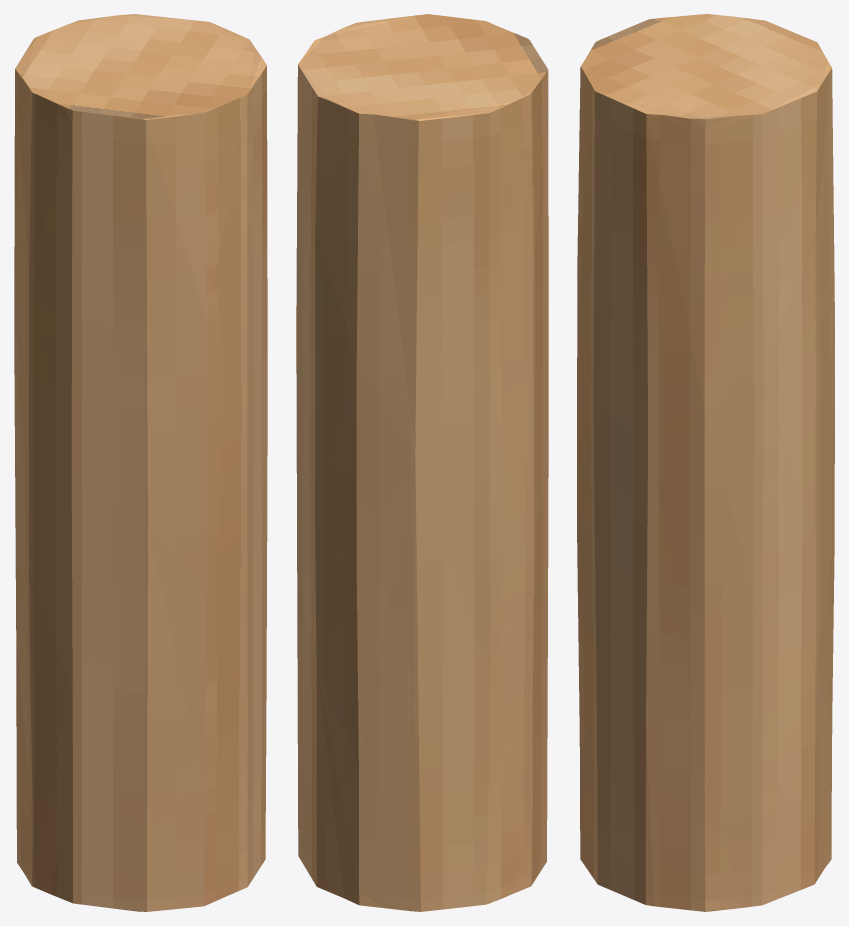
Rendered from fencebar.glb.
3 renders of one model, left to right at view 1: azimuth 30°, elevation 25°; view 2: azimuth 150°, elevation 25°; view 3: azimuth 270°, elevation 25°, orthographic.
Parts seen in each view (by area): view 1: world; view 2: world; view 3: world.
Boxes of the visible parts, x1=… form: world: x1=14, y1=14, x2=267, y2=911; world: x1=296, y1=14, x2=548, y2=911; world: x1=577, y1=14, x2=834, y2=911.
Bounding box in the file's own units: 0.2945 × 1 × 0.2951.
Materials: 1 (1 with a texture image).
